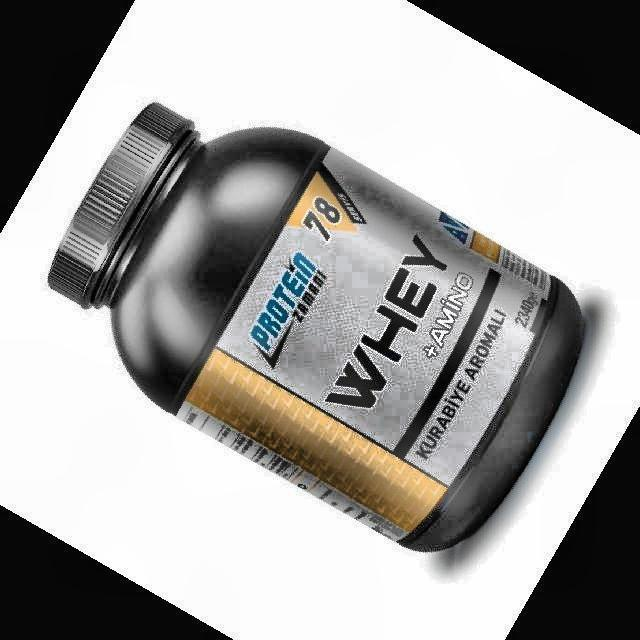plastic: (49, 102, 585, 551)
